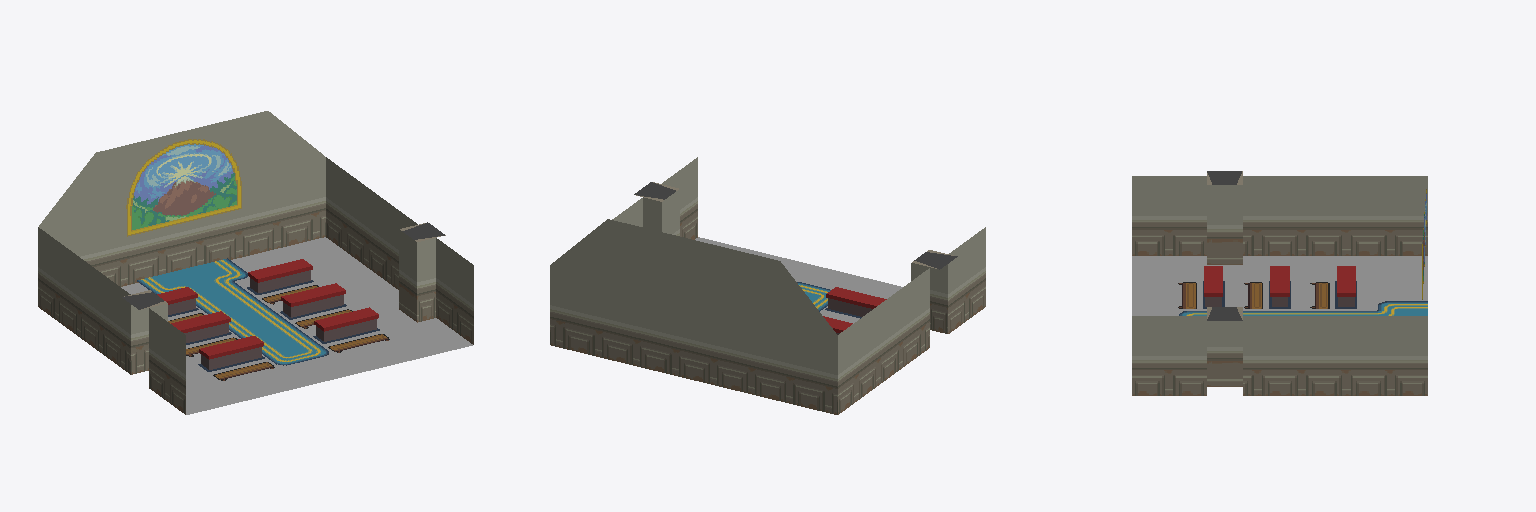
3 views of the same model, side by side, from view 1: azimuth 30°, elevation 25°; view 2: azimuth 150°, elevation 25°; view 3: azimuth 270°, elevation 25° (orthographic).
Parts seen in each view (by area): view 1: polygon0, polygon2, polygon1, polygon11, polygon7, polygon5, polygon6, polygon13, polygon14, polygon8; view 2: polygon0, polygon2, polygon1, polygon7, polygon14; view 3: polygon2, polygon0, polygon1, polygon7, polygon13, polygon5, polygon14.
Part boxes in pixels (x1,y1,x2,y2): polygon0: (38,111,473,374); polygon2: (38,197,473,414); polygon1: (121,237,472,414); polygon11: (126,139,241,236); polygon7: (157,259,378,369); polygon5: (137,258,322,362); polygon6: (153,263,304,355); polygon13: (168,285,389,380); polygon14: (122,222,444,309); polygon8: (168,280,379,371); polygon0: (550,157,985,374); polygon2: (550,182,985,414); polygon1: (695,237,902,323); polygon7: (823,287,886,334); polygon14: (634,182,957,269); polygon2: (1132,171,1427,395); polygon0: (1132,176,1427,355); polygon1: (1132,256,1427,315); polygon7: (1204,266,1355,306); polygon13: (1178,282,1329,308); polygon5: (1198,301,1427,315); polygon14: (1207,171,1242,320).
Bounding box in the file's own units: 16 × 7 × 13.38.
13 materials, 10 textured.